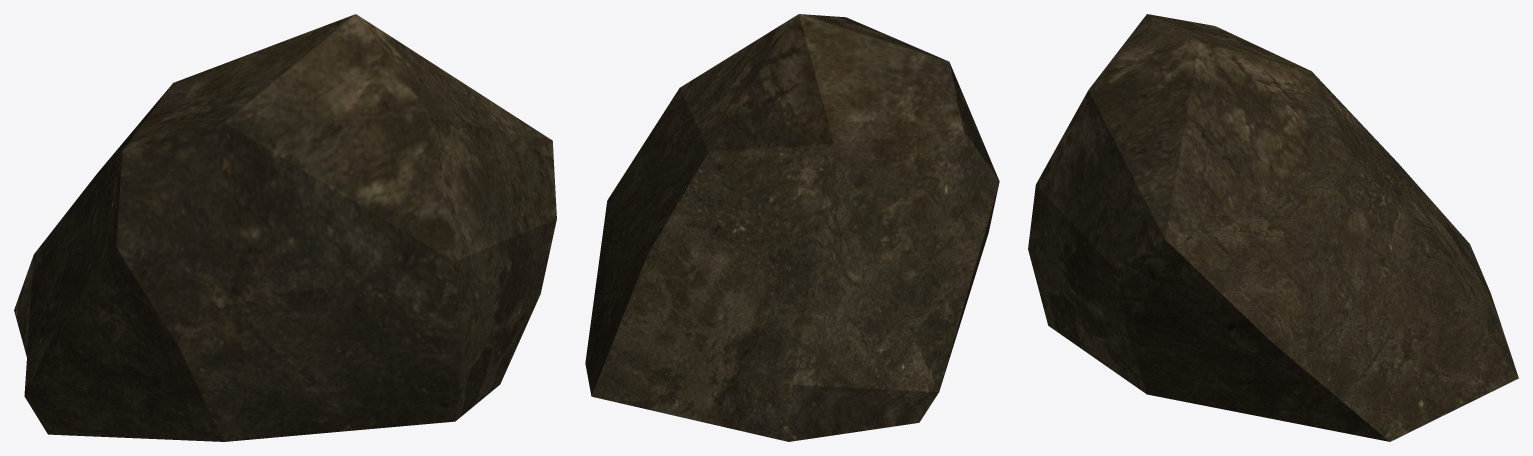
File: stone_02.fbx
3 views of the same model, side by side, from view 1: azimuth 30°, elevation 25°; view 2: azimuth 150°, elevation 25°; view 3: azimuth 270°, elevation 25° (orthographic). The views are drawn at different scales.
Visible parts, largest first — view 1: stone_02; view 2: stone_02; view 3: stone_02.
Part boxes in pixels (x1,y1,x2,y2): stone_02: (14,14,556,441); stone_02: (585,14,999,441); stone_02: (1028,14,1518,441).
Size of the model in its own units: 58.85 by 50.87 by 65.79.
Materials: 1 (1 with a texture image).
